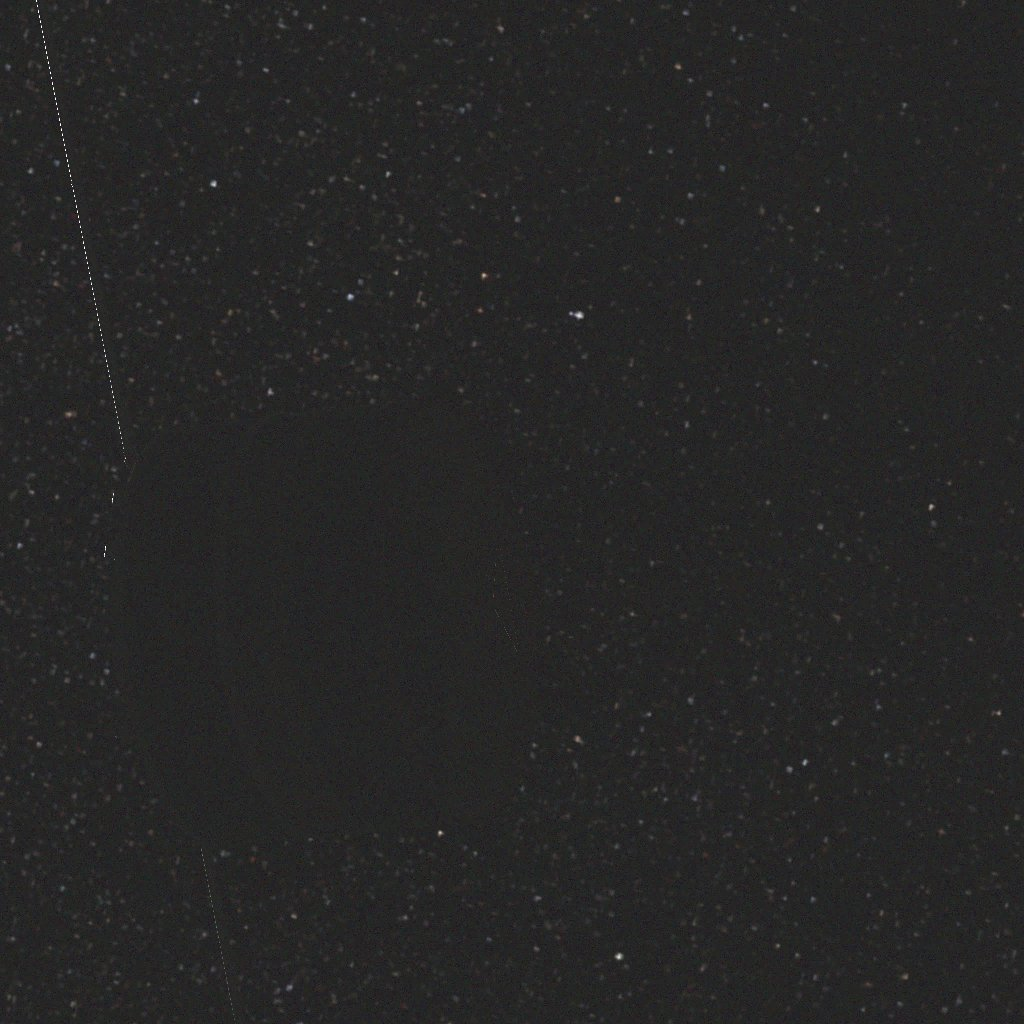double_star: (37, 0, 901, 1024)
